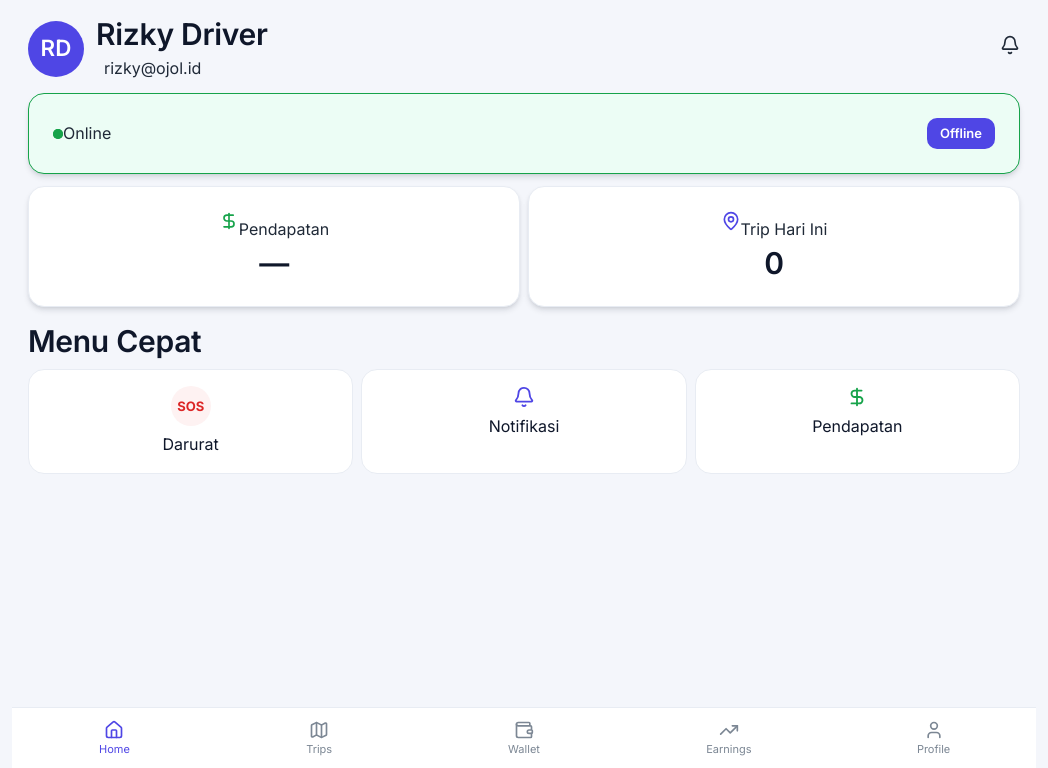
Test case: DriverApp › navigates to trips tab
Check: the heading "Rizky Driver" is shown, box [96,16,268,54]
Click the button "Trips" at (319, 738), box [217,712,422,764]
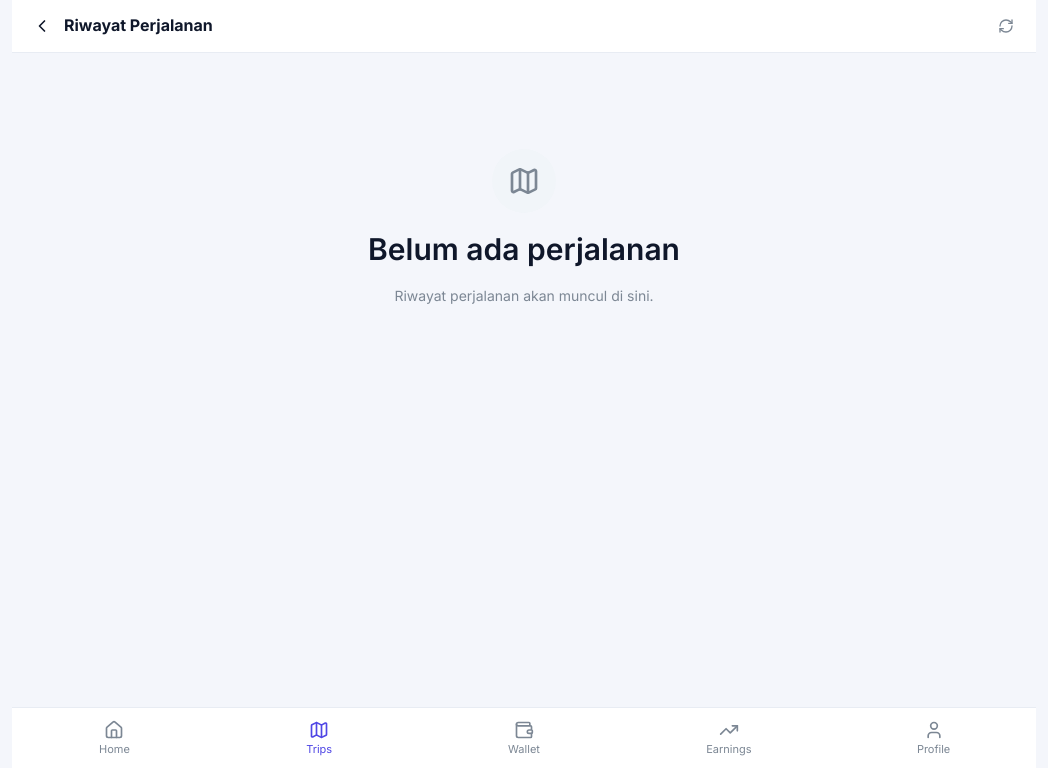
Check: the heading "Riwayat Perjalanan" is shown, box [64,15,213,35]
